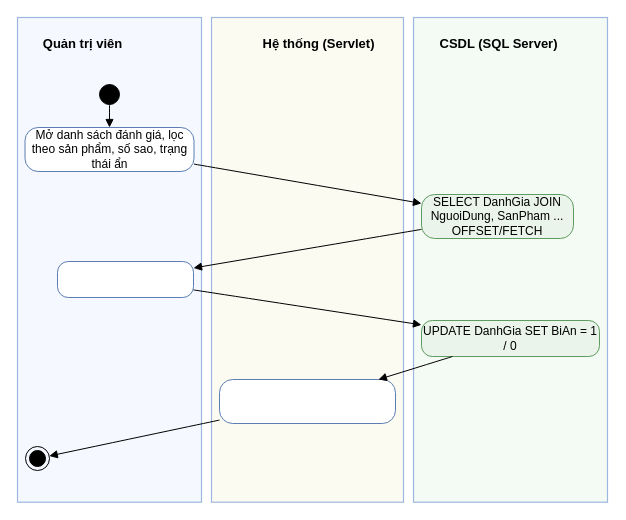
The diagram is 626 pixels wide and 520 high, and some of its shapes have lost their labels. The box of each missing label's shape, as (x1, y1, x2, y2) in pixels:
Bấm Ẩn hoặc Hiện lại (POST): (56, 260, 194, 298)
Thông báo thành công; điểm trung bình của SP chỉ tính đánh giá BiAn = 0: (218, 378, 396, 424)
